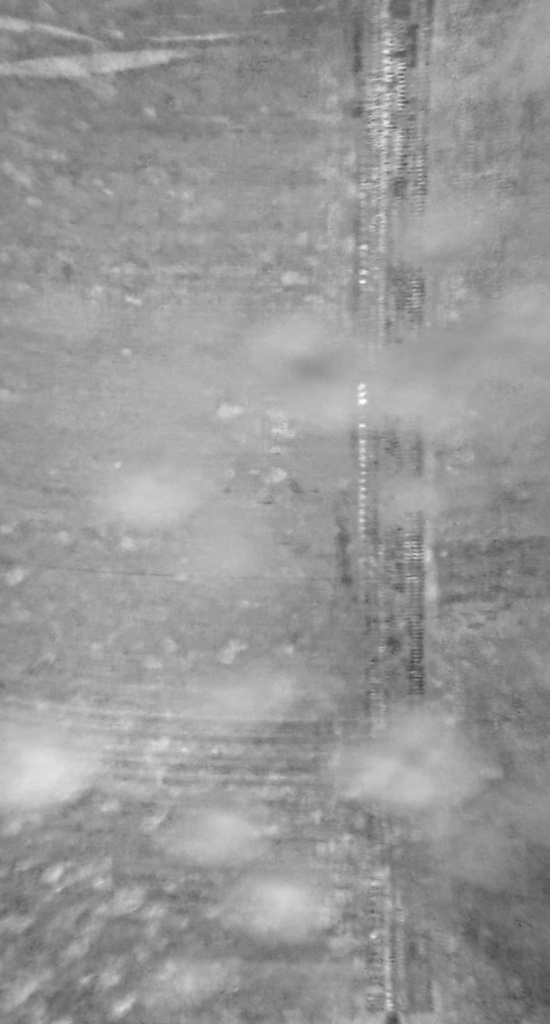splice: (338, 2, 435, 1024)
